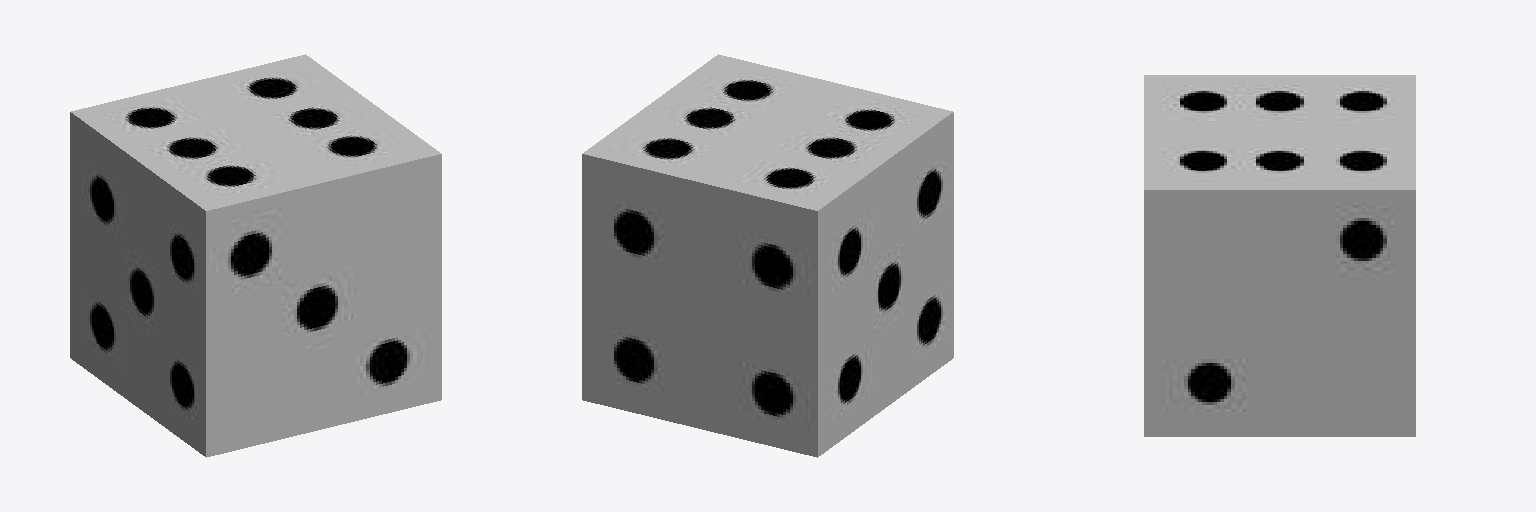
3 views of the same model, side by side, from view 1: azimuth 30°, elevation 25°; view 2: azimuth 150°, elevation 25°; view 3: azimuth 270°, elevation 25° (orthographic).
Visible parts, largest first — view 1: Cube; view 2: Cube; view 3: Cube.
Boxes of the visible parts, x1,y1,x2,y2 form: Cube: [70, 54, 441, 457]; Cube: [582, 54, 953, 457]; Cube: [1144, 75, 1415, 436].
Bounding box in the file's own units: 2 × 2 × 2.
1 materials, 1 textured.